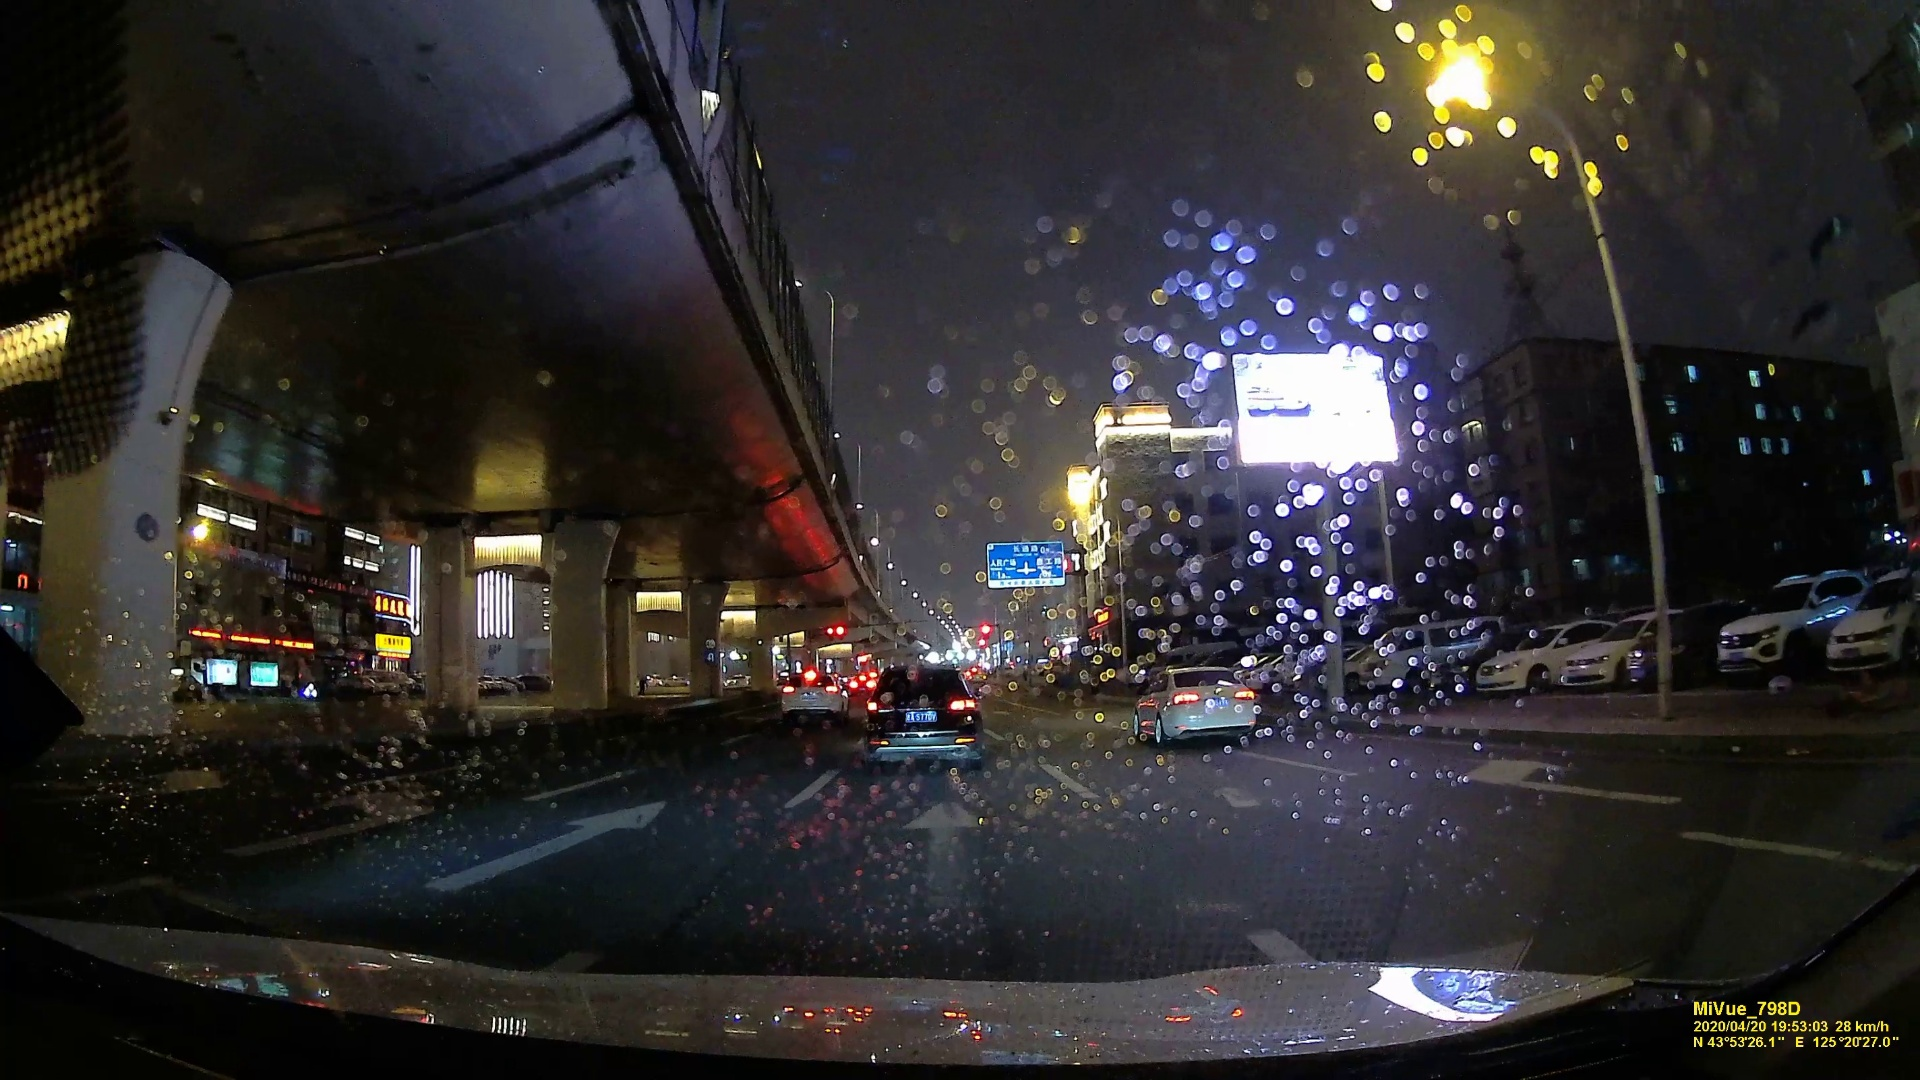traffic_sign: (982, 545, 1064, 584)
vehicle: (858, 667, 982, 767), (1134, 669, 1259, 744), (781, 671, 849, 725)
